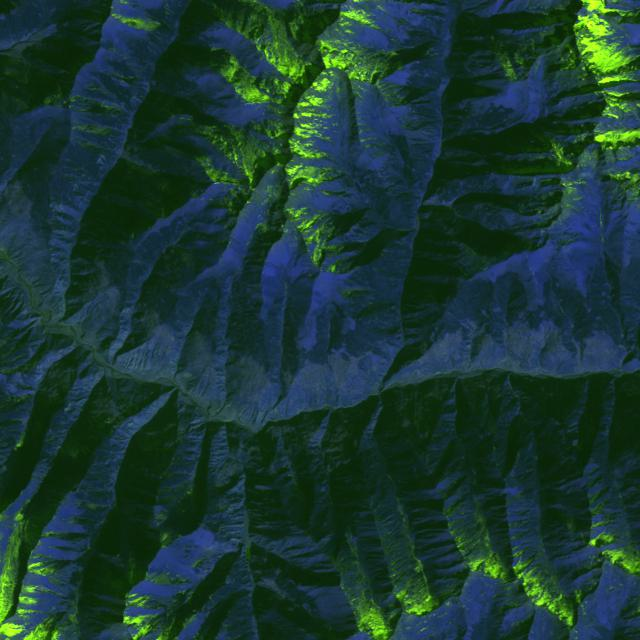landslides: (122, 153, 160, 174), (100, 100, 135, 118), (96, 122, 126, 134), (99, 154, 115, 164), (108, 138, 122, 148), (120, 0, 143, 6), (77, 196, 92, 204), (318, 380, 325, 396)
